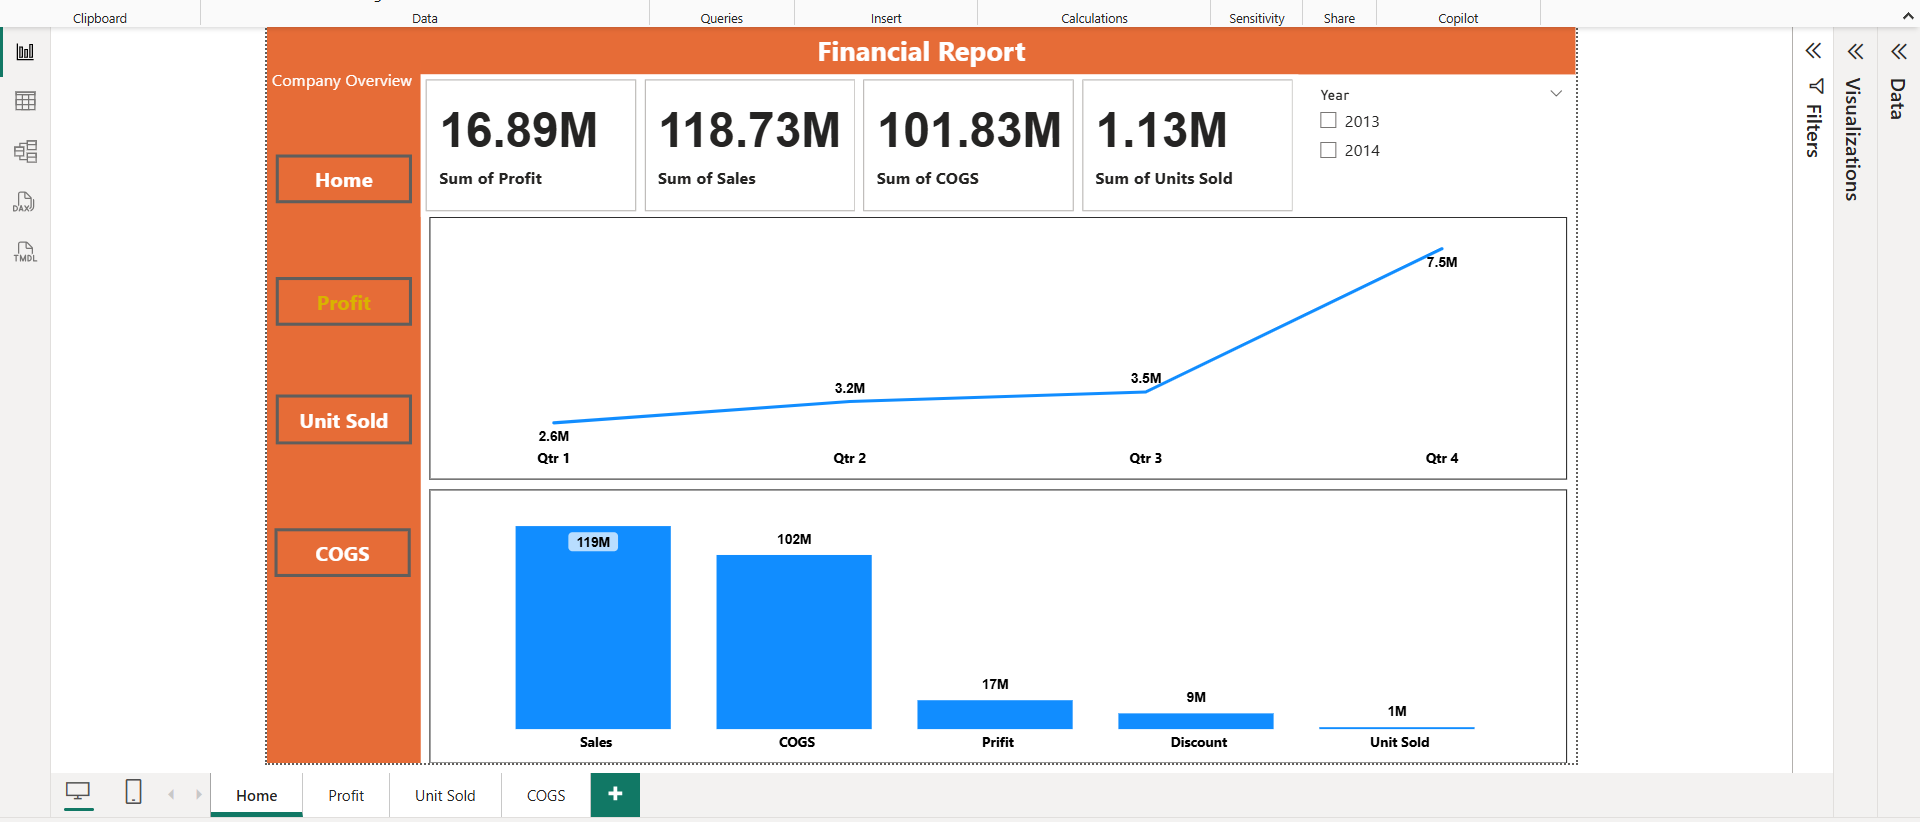

The page's visual inventory and layout, read from the dashboard file:
{"tool":"powerbi","page":{"name":"Home","canvas":[1280,720],"ordinal":0},"visuals":[{"type":"textbox","box":[0,0,1280.3,46.5],"z":0},{"type":"textbox","box":[0,35.5,150.4,684.8],"z":1000},{"type":"actionButton","box":[8.6,124.7,133.3,47.7],"z":2000},{"type":"actionButton","box":[8.6,244.6,133.3,47.7],"z":3000},{"type":"actionButton","box":[8.6,359.5,133.3,48.9],"z":4000},{"type":"actionButton","box":[7.3,490.4,133.3,47.7],"z":5000},{"type":"lineClusteredColumnComboChart","fields":{"Category":["Header.Header"],"Y":["Sum(Header.Values)"]},"box":[159,452.4,1112.8,267.8],"z":6000},{"type":"lineChart","fields":{"Category":["financials.Date.Variation.Date Hierarchy.Quarter"],"Y":["Sum(financials.Profit)"]},"box":[159,185.9,1112.8,256.8],"z":7000},{"type":"cardVisual","fields":{"Data":["Sum(financials.Profit)","Sum(financials. Sales)","Sum(financials.COGS)","Sum(financials.Units Sold)"]},"box":[150.4,46.5,858.4,139.4],"z":8000},{"type":"slicer","fields":{"Values":["financials.Year"]},"box":[1017.4,52.6,262.9,127.2],"z":9000}]}

Visuals, with their boxes on the page's 1280x720 design canvas (x1, y1, x2, y2). These are canvas units, not pixel positions in the 1920x822 screenshot, which may show the page scaled, cropped or inside an application window:
textbox: box(0, 0, 1280, 46)
textbox: box(0, 36, 150, 720)
actionButton: box(9, 125, 142, 172)
actionButton: box(9, 245, 142, 292)
actionButton: box(9, 360, 142, 408)
actionButton: box(7, 490, 141, 538)
lineClusteredColumnComboChart - Header.Header x Sum(Header.Values): box(159, 452, 1272, 720)
lineChart - financials.Date.Variation.Date Hierarchy.Quarter x Sum(financials.Profit): box(159, 186, 1272, 443)
cardVisual - Sum(financials.Profit) x Sum(financials. Sales): box(150, 46, 1009, 186)
slicer - financials.Year: box(1017, 53, 1280, 180)
